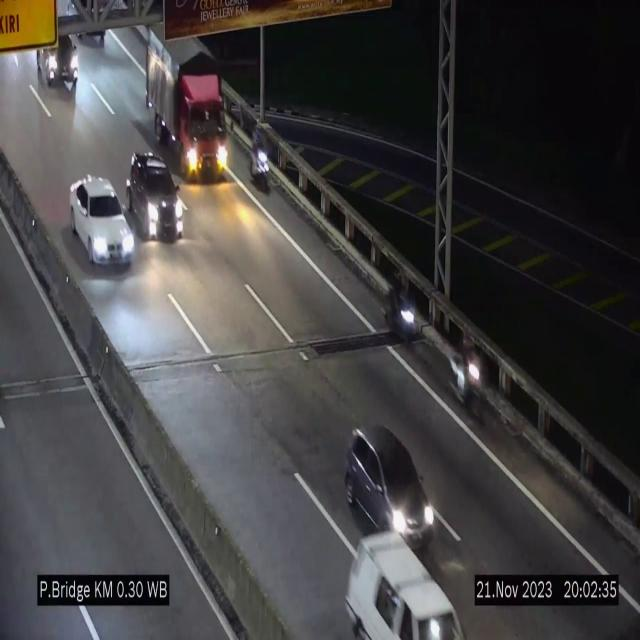Car: (340, 498, 465, 640), (348, 424, 439, 546), (70, 176, 136, 264), (130, 155, 192, 248), (32, 20, 84, 90)
Motorcycle: (448, 328, 484, 423), (383, 264, 418, 354), (248, 122, 272, 194)
Truck: (145, 18, 234, 186)
